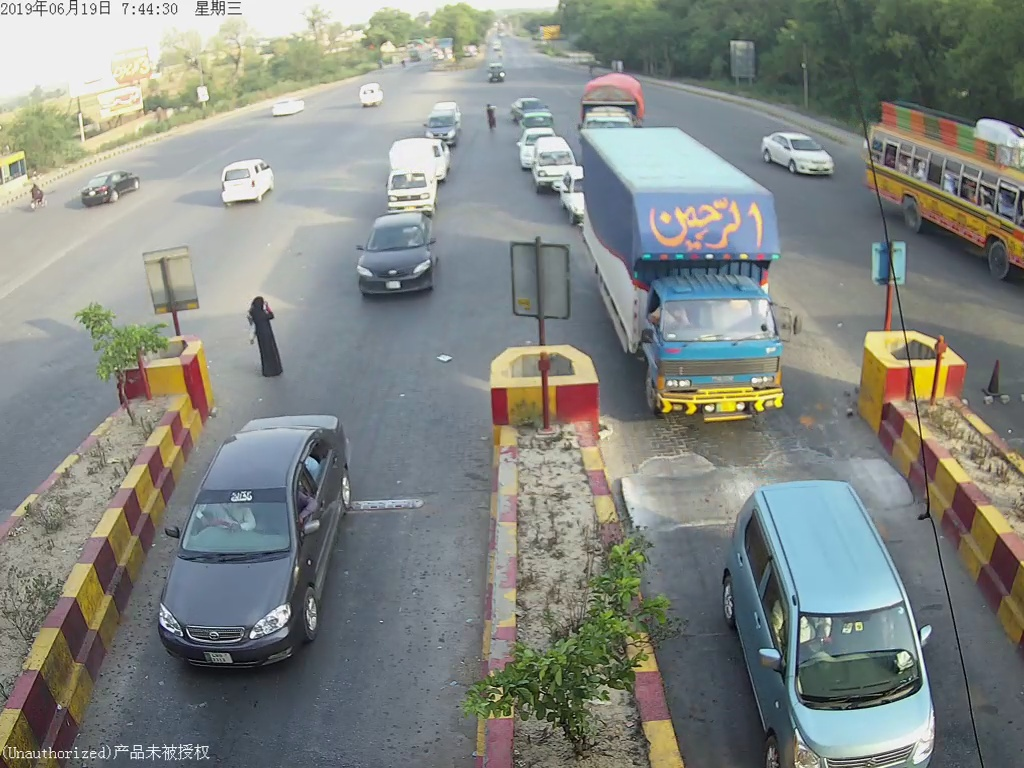Cat-1: (163, 405, 360, 670), (356, 215, 445, 298), (389, 147, 439, 210)
Cat-2: (577, 127, 809, 422)
